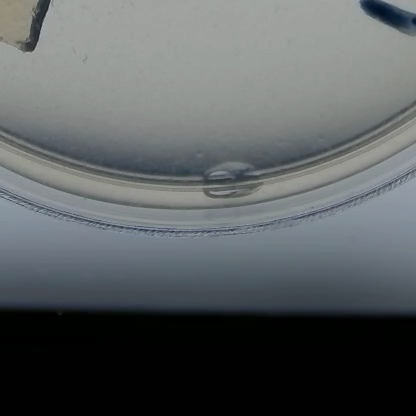worm: (78, 41, 102, 66)
